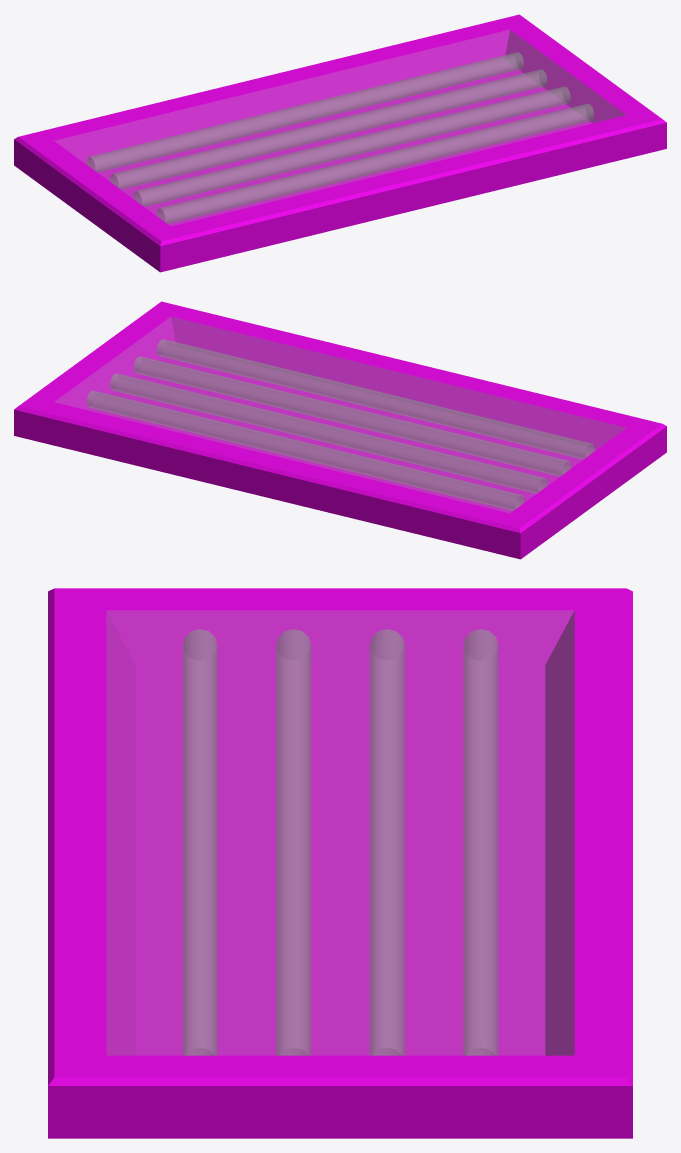
Rendered from LightCeiling_01.fbx.
The picture shows the model from 3 angles, top to bottom: view 1: azimuth 30°, elevation 25°; view 2: azimuth 150°, elevation 25°; view 3: azimuth 270°, elevation 25°; orthographic projection. The views are drawn at different scales.
Parts seen in each view (by area): view 1: polySurface919; view 2: polySurface919; view 3: polySurface919.
Part boxes in pixels (bbox=[...]): polySurface919: bbox=[14, 14, 666, 272]; polySurface919: bbox=[14, 301, 666, 559]; polySurface919: bbox=[48, 588, 632, 1138].
Size of the model in its own units: 0.01 by 0.00055 by 0.005.
